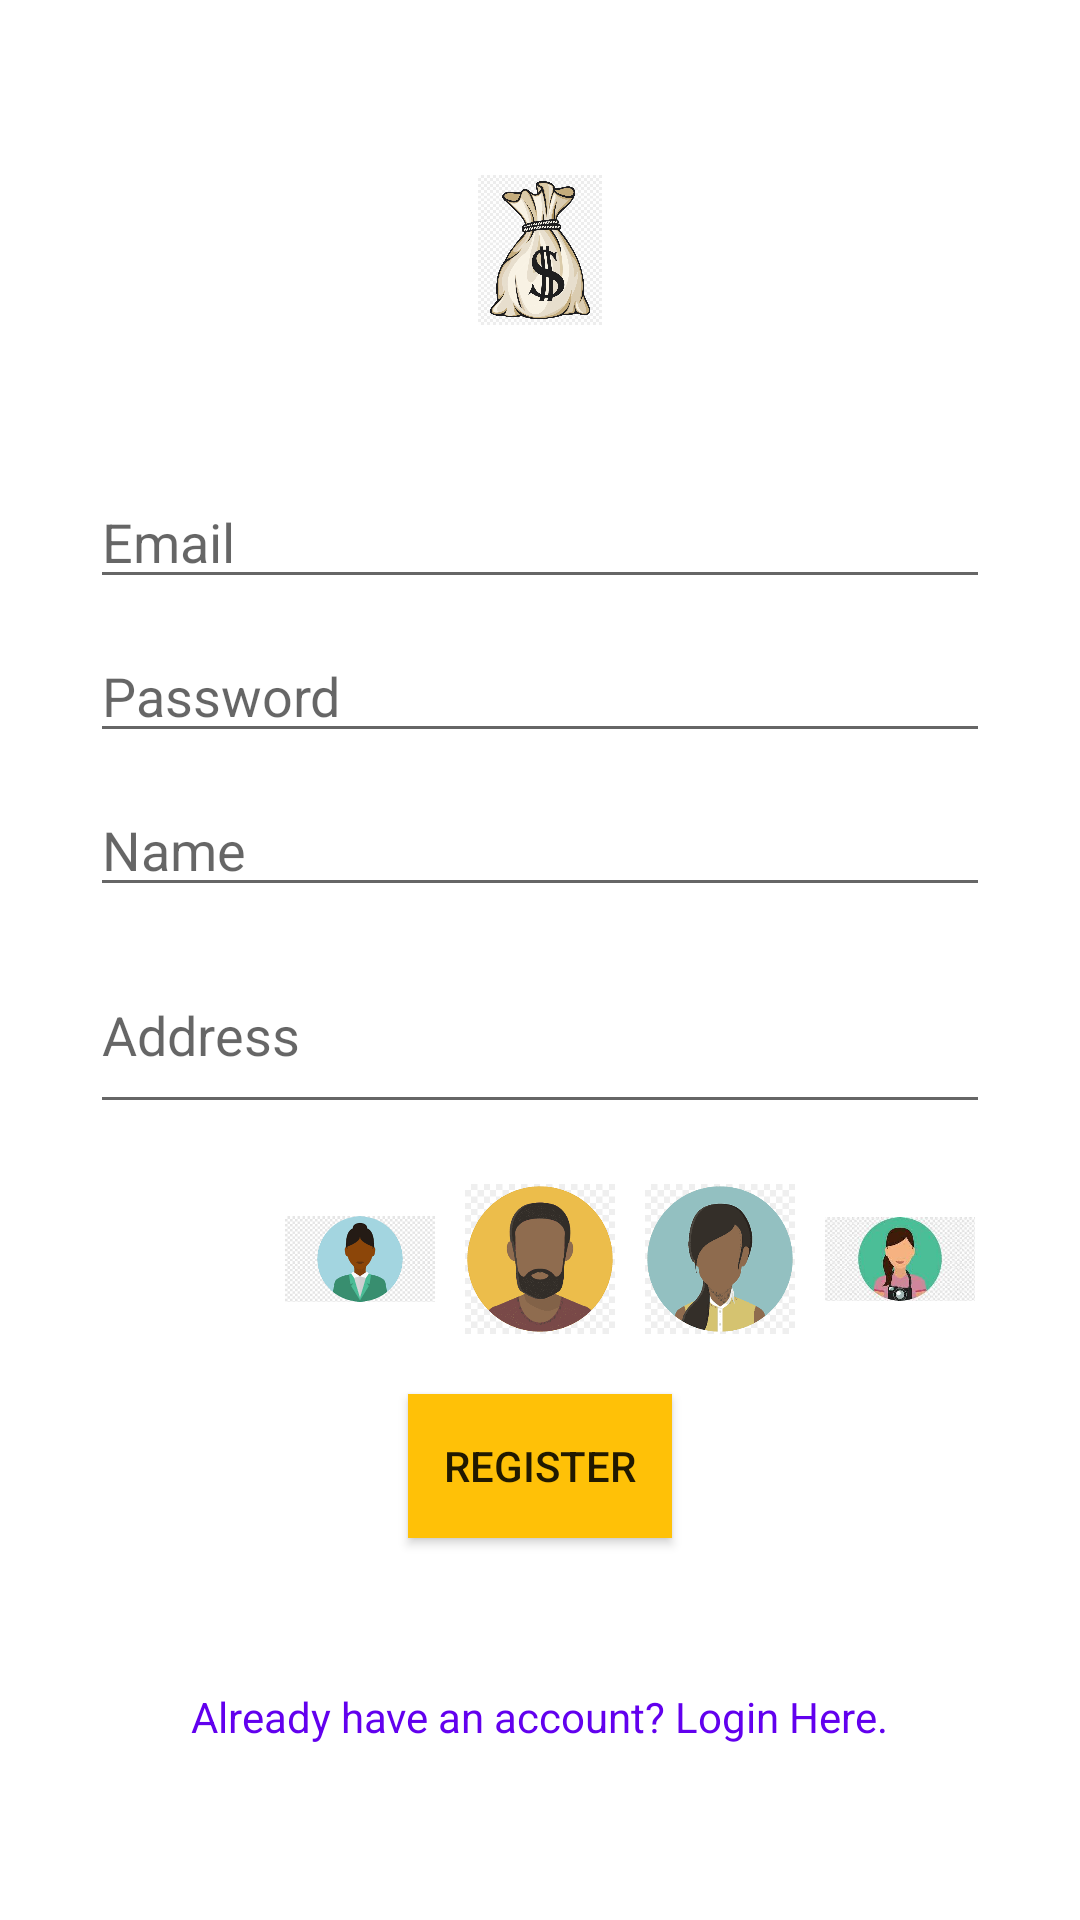

Icons on this 1080px×1920px Android screen, each with its box as [x1,y1,x2,y2]:
girl: [285,1216,435,1302], [825,1217,975,1301]
man: [467,1186,613,1332]
money bag: [490,181,590,319]
woman: [647,1186,793,1332]
